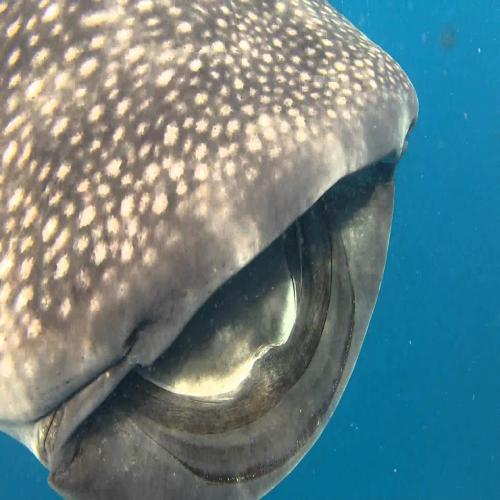shark-endangered: (0, 0, 421, 495)
